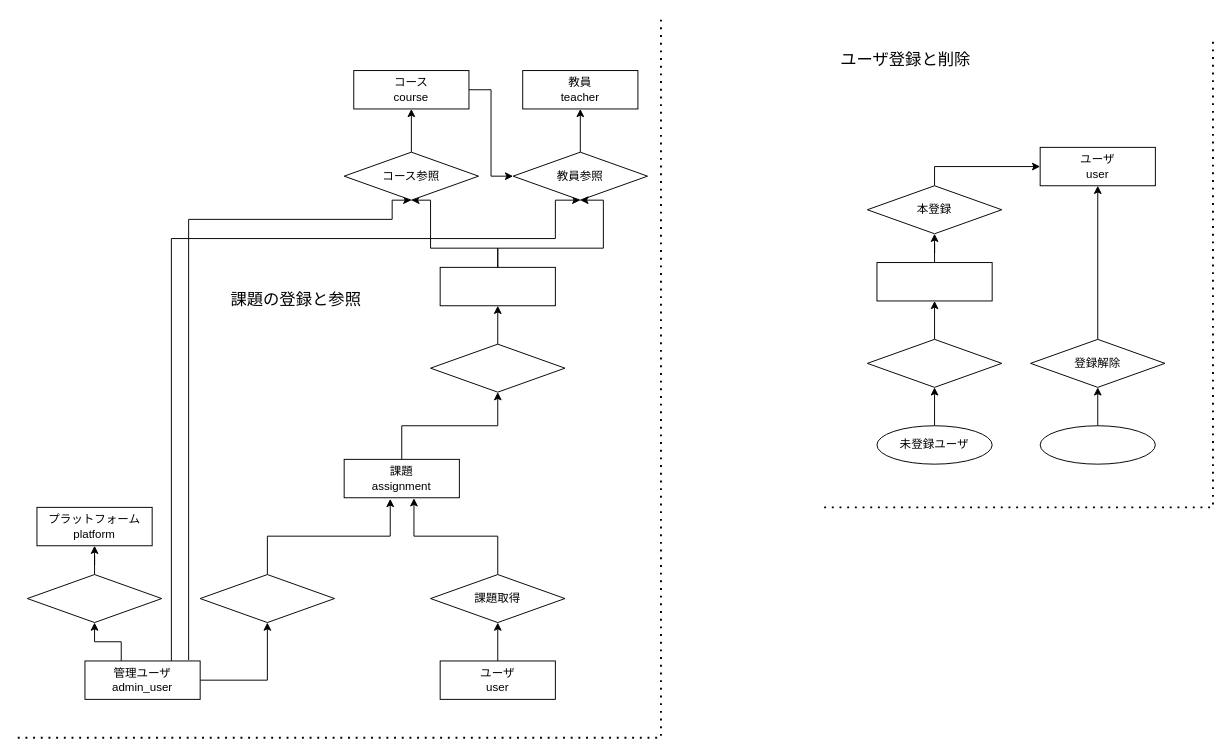
Image size: 1231x756. Some labels were removed from this diagram. Each missing label, with the centre of its shape:
"プラフォ取得" goes at point 94,598.
"仮登録" goes at point 934,362.
"仮登録ユーザ provisional_user" goes at point 934,281.
"登録解除ユーザ" goes at point 1097,444.
"課題登録" goes at point 267,598.
"講義 lecture" goes at point 497,286.
"講義参照" goes at point 497,367.
